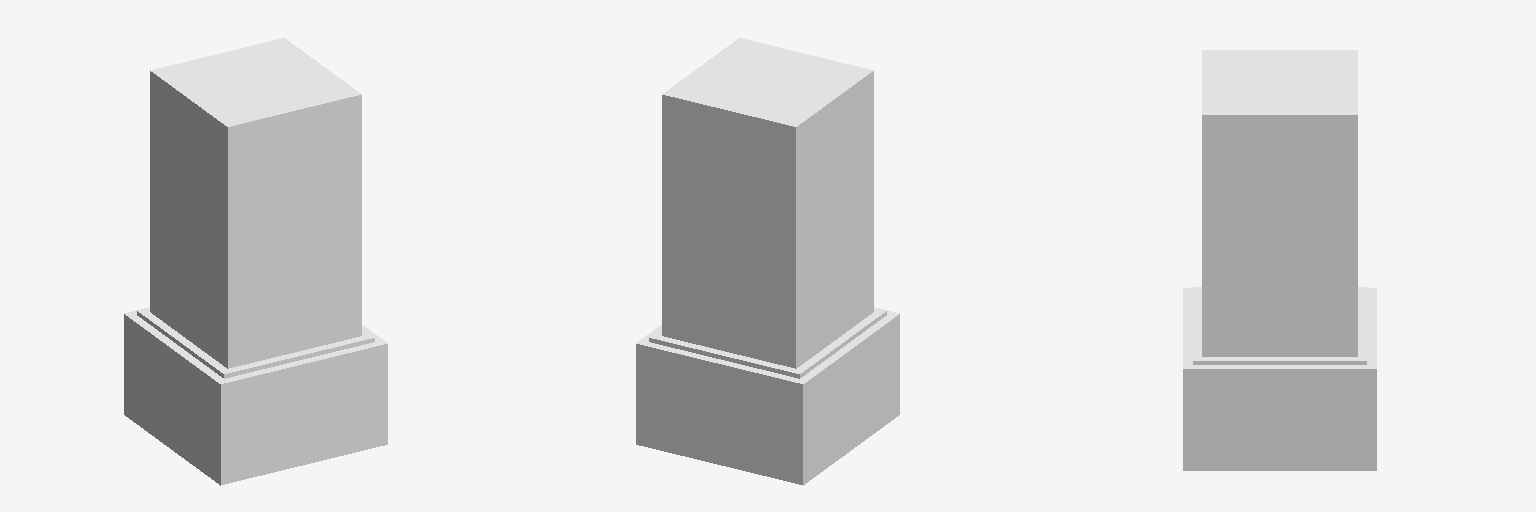
The model's file is build.obj.
The picture shows the model from 3 angles: view 1: azimuth 30°, elevation 25°; view 2: azimuth 150°, elevation 25°; view 3: azimuth 270°, elevation 25°; orthographic projection.
Visible parts, largest first — view 1: build; view 2: build; view 3: build.
Boxes of the visible parts, <box> form: build: <box>124,38,387,485</box>; build: <box>636,38,899,485</box>; build: <box>1183,50,1376,470</box>.
Bounding box in the file's own units: 40 × 79 × 40.